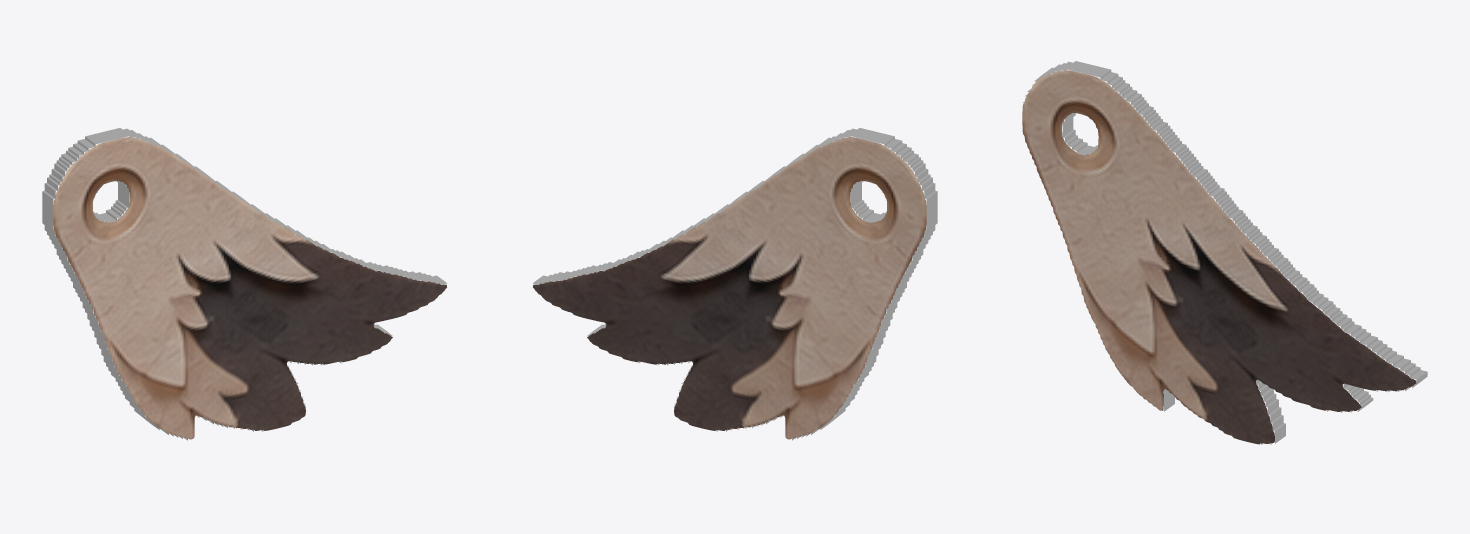
The model's file is CovertsRight.glb.
3 views of the same model, side by side, from view 1: azimuth 30°, elevation 25°; view 2: azimuth 150°, elevation 25°; view 3: azimuth 330°, elevation 25° (orthographic).
Parts seen in each view (by area): view 1: PaperVolume; view 2: PaperVolume; view 3: PaperVolume.
Boxes of the visible parts, x1=… form: PaperVolume: x1=42, y1=128, x2=447, y2=440; PaperVolume: x1=532, y1=128, x2=937, y2=440; PaperVolume: x1=1022, y1=61, x2=1427, y2=444.
Bounding box in the file's own units: 1.91 × 1.57 × 0.08.
3 materials, 2 textured.
